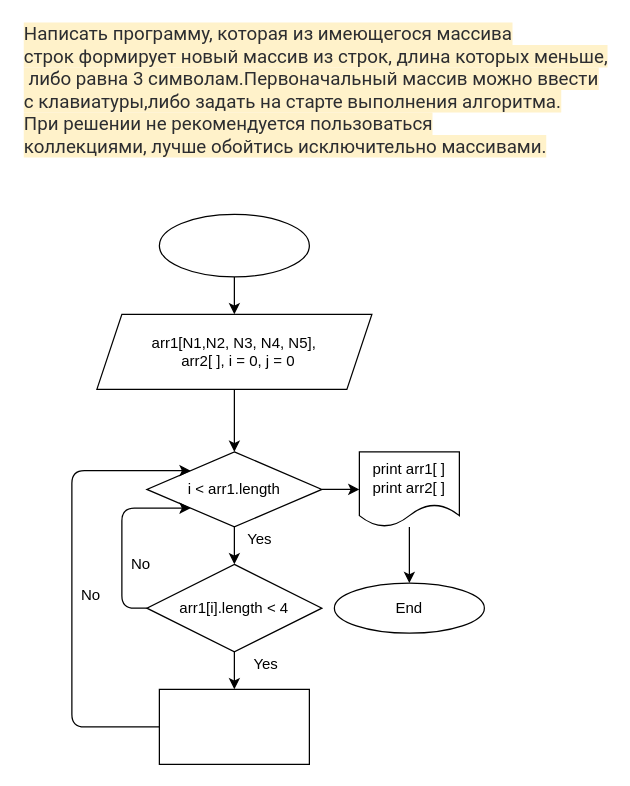
The diagram is 630 pixels wide and 786 high, and some of its shapes have lost their labels. Here are the shapes that lost their labels. From the top down, the centre of each, then its label:
At (233,245): "Start".
At (233,726): "arr2[j] = arr1[i] j ++".
